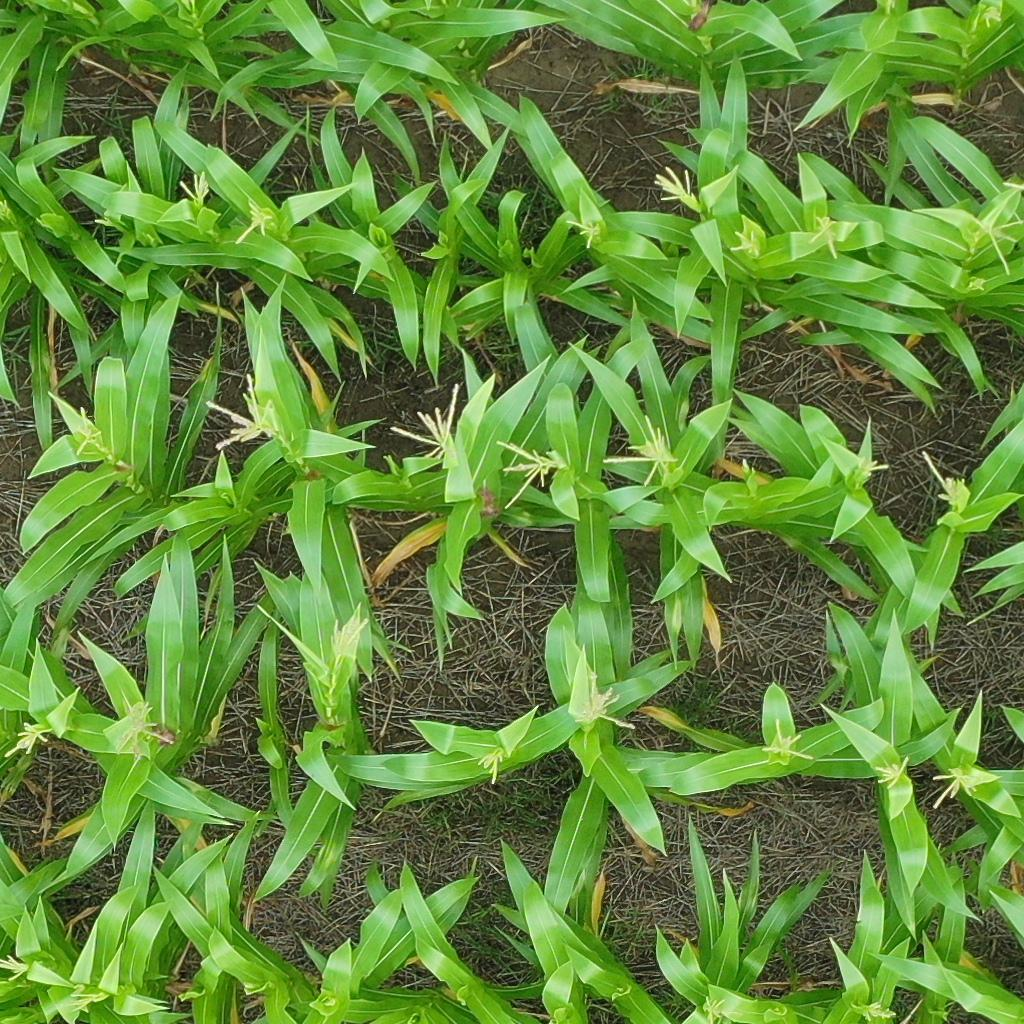Tassel: (203, 371, 282, 454), (387, 380, 460, 465), (958, 182, 1022, 275), (601, 415, 679, 489), (494, 438, 560, 512), (566, 675, 636, 731), (112, 699, 175, 755), (761, 719, 815, 762), (65, 403, 104, 457), (930, 770, 984, 809), (923, 450, 959, 506), (234, 199, 275, 246), (652, 164, 693, 207), (4, 721, 50, 759), (330, 618, 368, 661), (871, 756, 913, 793), (812, 207, 839, 257), (726, 226, 766, 258), (566, 218, 602, 251), (179, 172, 211, 207), (60, 991, 104, 1016), (477, 748, 505, 787), (699, 995, 728, 1024), (859, 1001, 897, 1022), (857, 457, 890, 479), (1, 952, 26, 980), (976, 5, 1004, 28), (967, 276, 986, 291), (740, 458, 750, 474), (1, 201, 9, 216)
